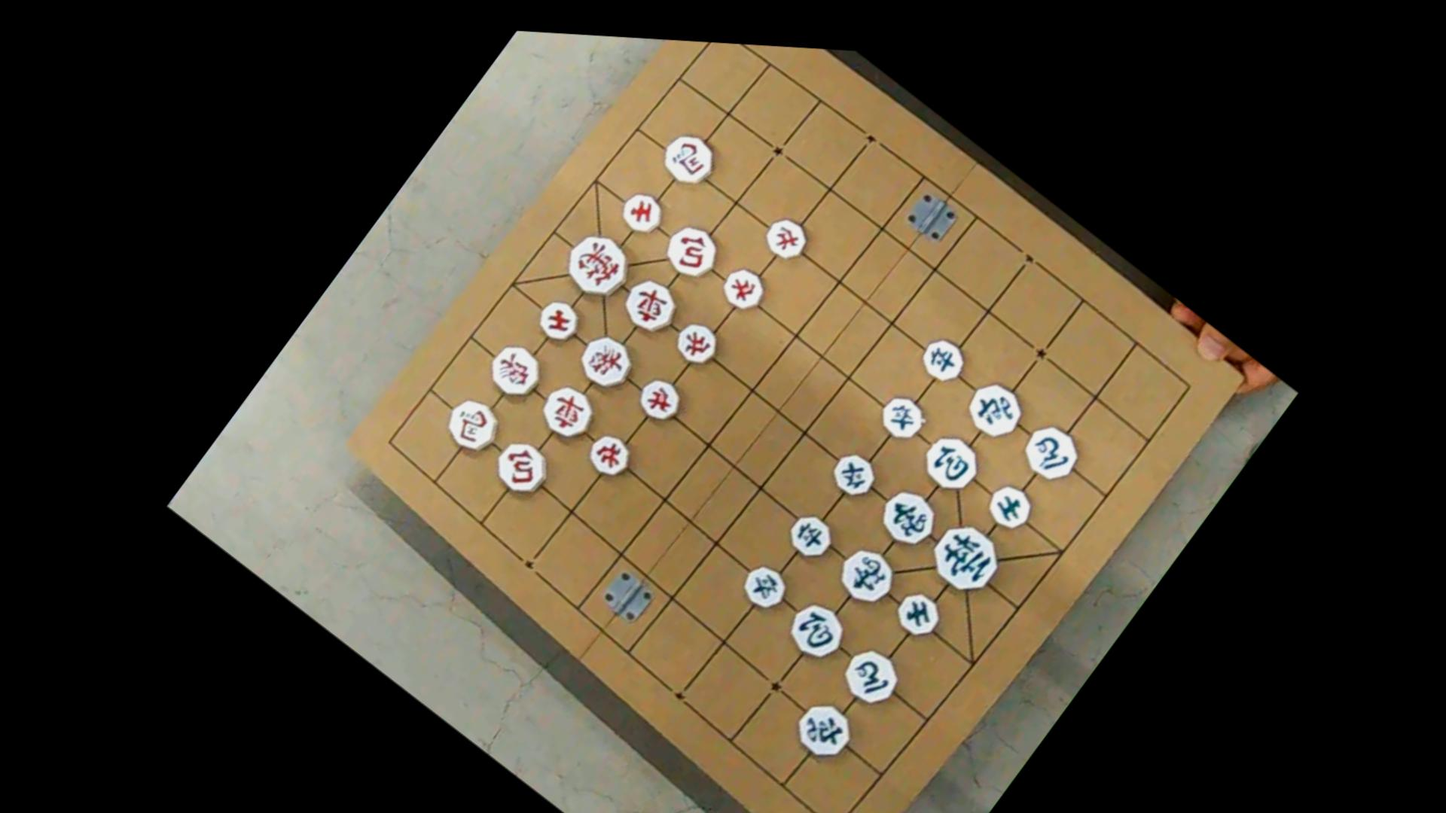cha_green: (789, 693, 860, 766), (959, 373, 1030, 446)
cha_red: (616, 270, 685, 341), (534, 377, 602, 447)
jol_green: (782, 507, 839, 565), (825, 445, 882, 503), (874, 388, 930, 446), (737, 558, 792, 616), (915, 330, 970, 388)
jol_red: (632, 370, 687, 428), (581, 427, 636, 484), (670, 315, 724, 371), (716, 260, 770, 316), (759, 210, 812, 266)
ma_green: (1016, 416, 1087, 489), (837, 641, 905, 711)
ma_red: (438, 389, 507, 460), (656, 124, 722, 193)
po_green: (781, 593, 853, 668), (916, 427, 987, 499)
po_red: (658, 215, 727, 287), (487, 432, 555, 502)
sa_green: (981, 477, 1038, 536), (890, 584, 946, 642)
sa_red: (615, 184, 669, 241), (532, 292, 585, 349)
sang_green: (871, 480, 944, 556), (831, 539, 902, 613)
sang_red: (572, 327, 640, 397), (481, 336, 548, 405)
wang_green: (921, 511, 1009, 603)
wang_red: (557, 223, 639, 308)
